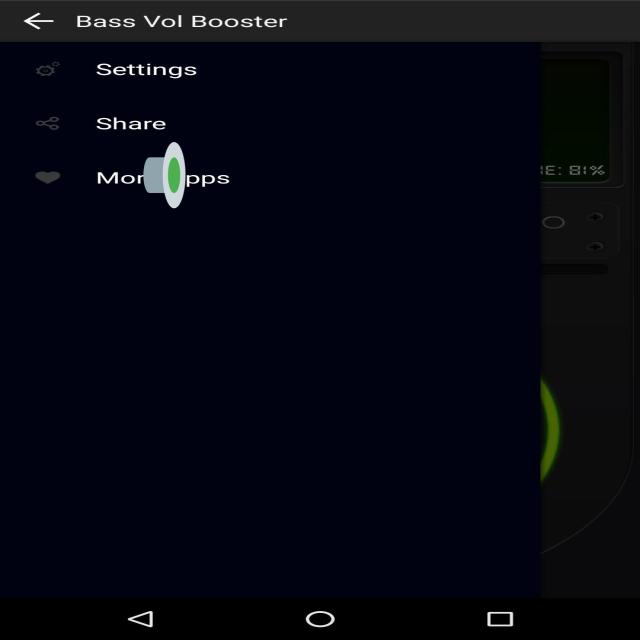social proof: (144, 114, 186, 236)
